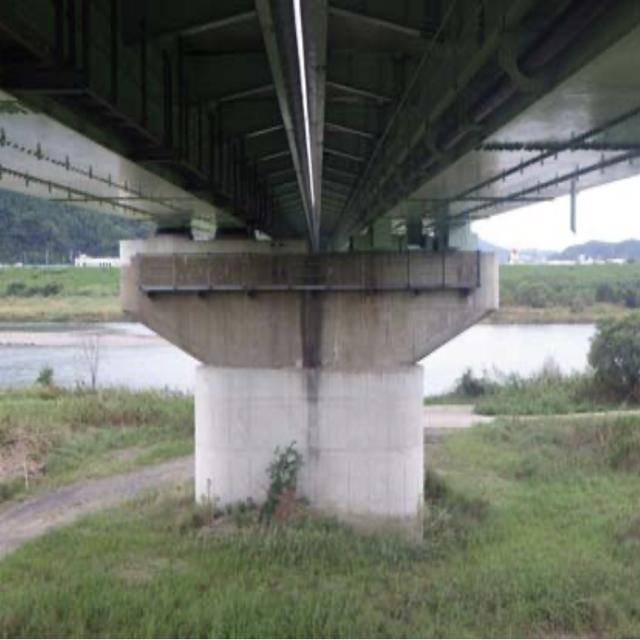leakage: (283, 230, 331, 429)
